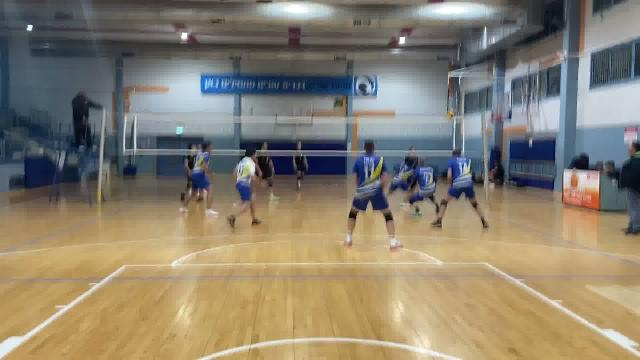ball: (447, 107, 458, 121)
